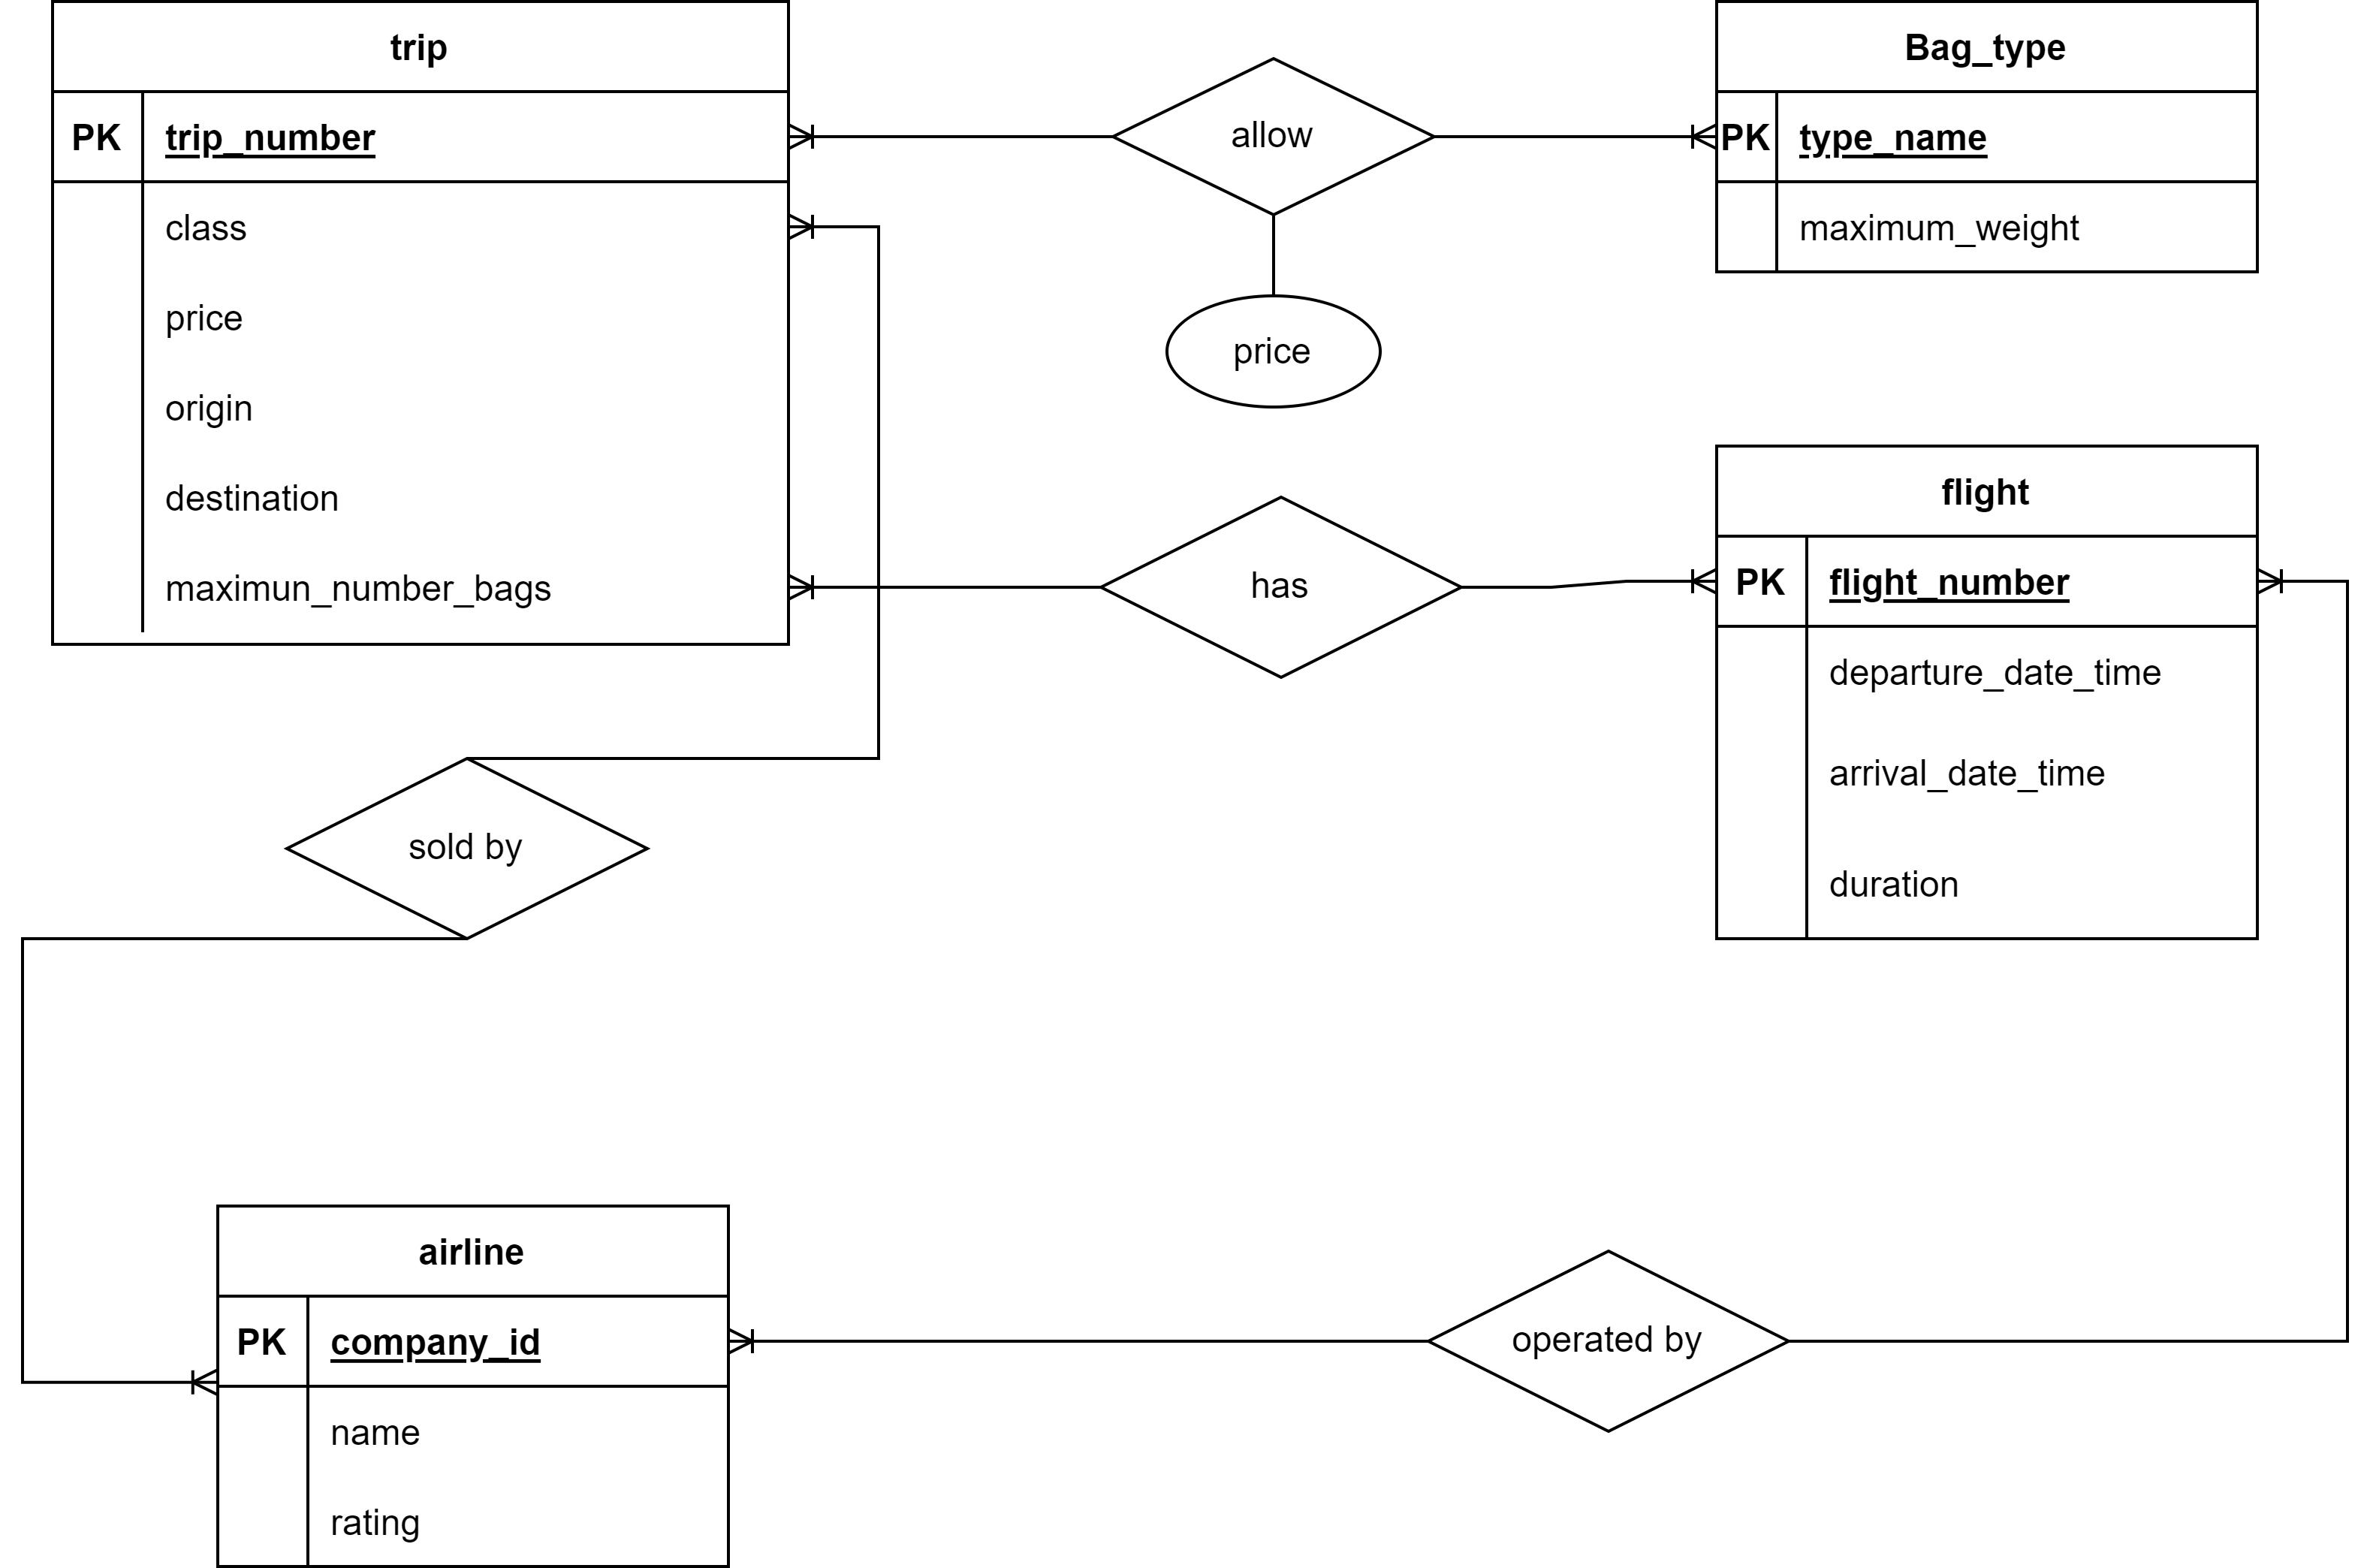attribute: (1169, 301, 1381, 408)
entity: (39, 0, 791, 649), (1712, 441, 2254, 943), (210, 1200, 733, 1568), (1715, 0, 2266, 276)
relationship: (1431, 1246, 1785, 1430), (285, 761, 648, 940), (1111, 499, 1461, 677), (1115, 60, 1435, 214)
